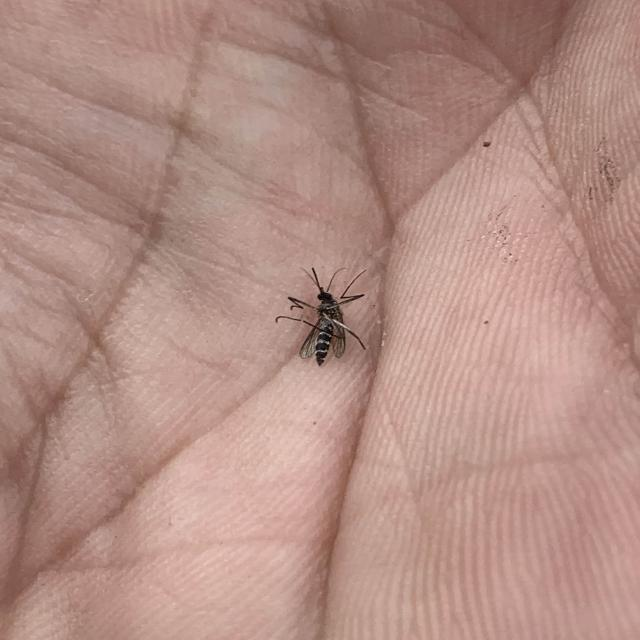albopictus: (268, 258, 376, 366)
